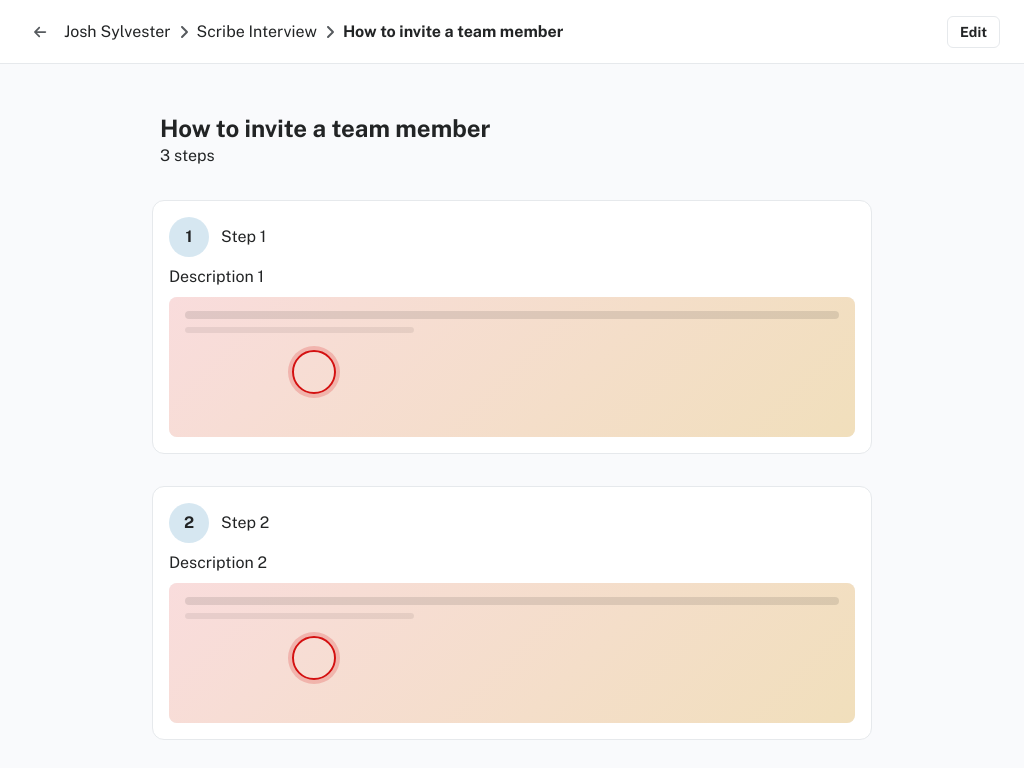
App: locked steps › Undo before Done editing keeps the original lock
Click the button "Edit" at [974, 32], box x1=947 y1=16 x2=1000 y2=48
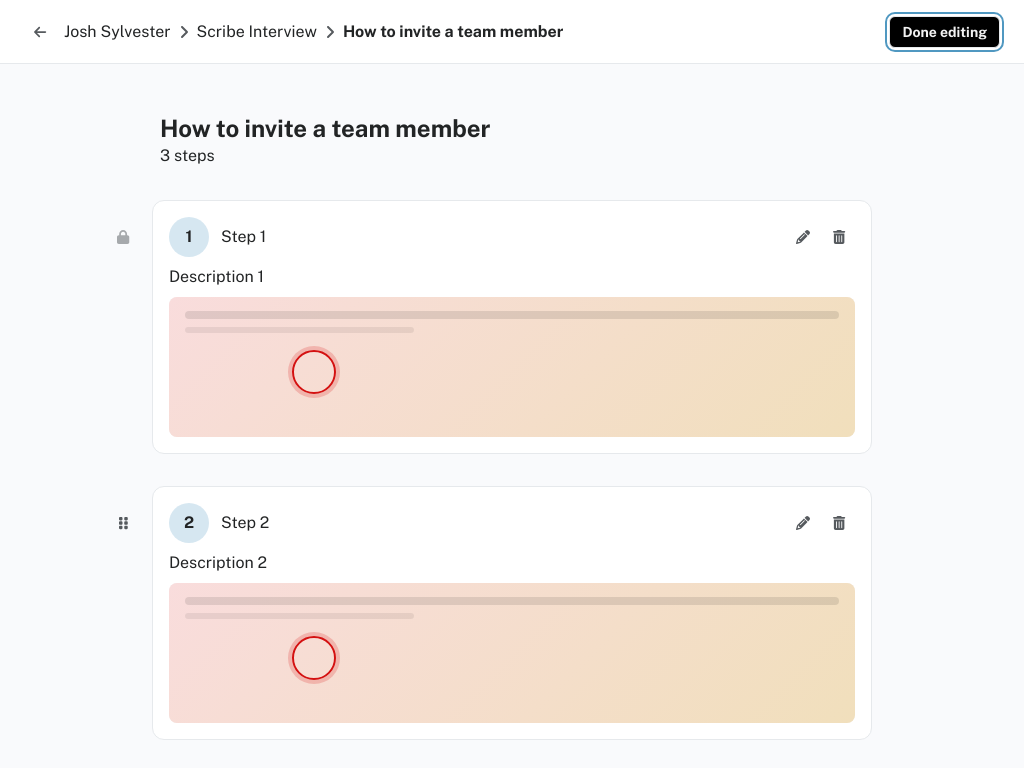
Click the button named "Delete Step 1" at [839, 237], box x1=823 y1=221 x2=855 y2=253
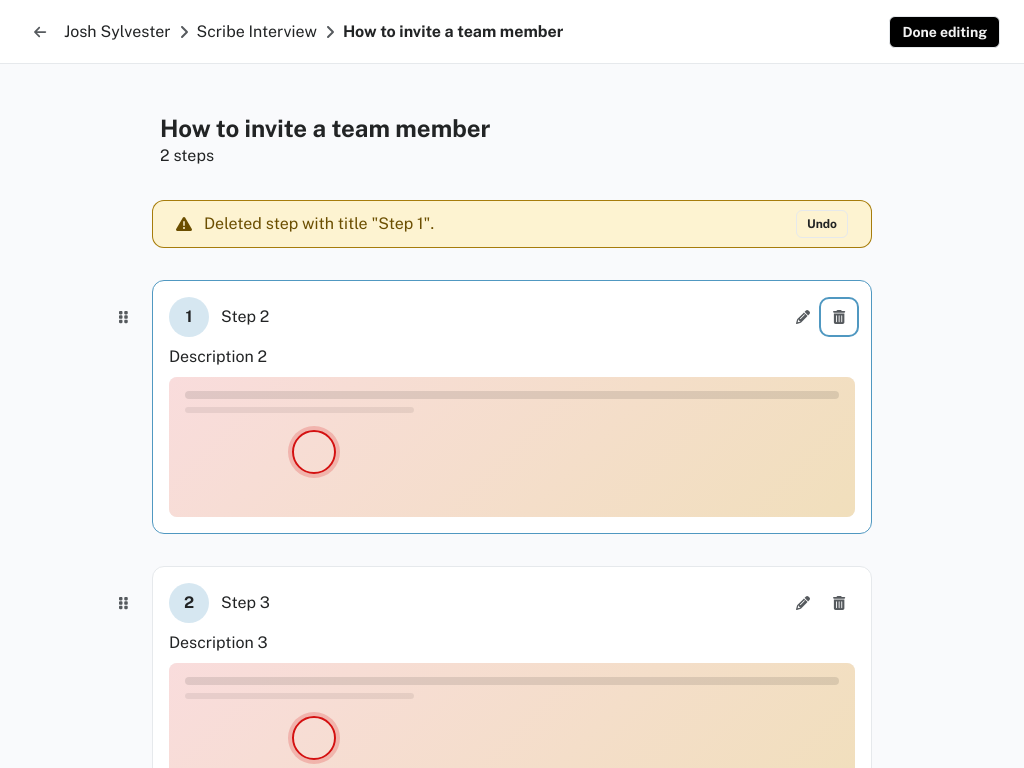
Click the button "Undo" at [822, 224], box x1=796 y1=210 x2=848 y2=238
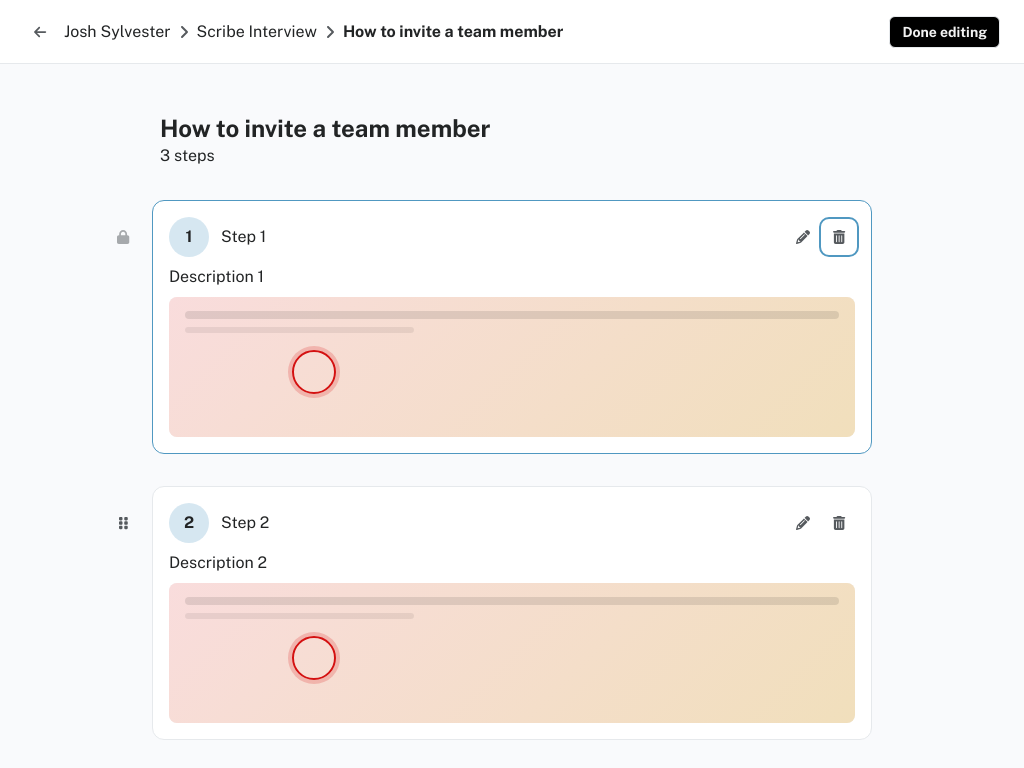
Click the button "Done editing" at [945, 32], box x1=889 y1=16 x2=1000 y2=48
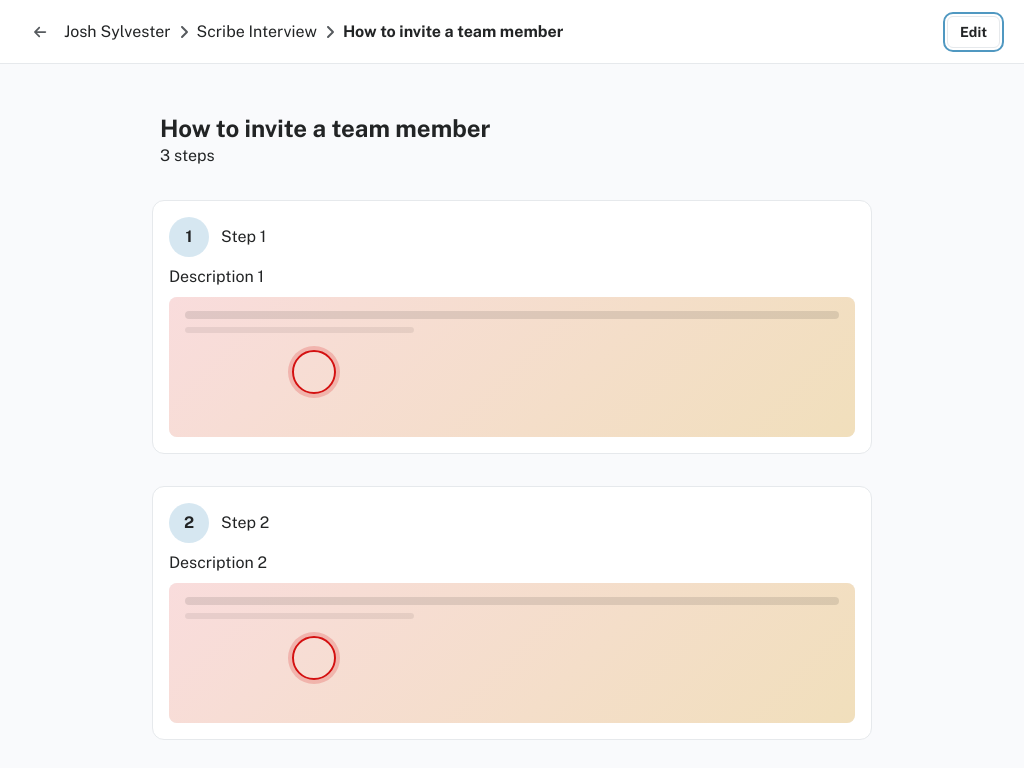
Click the button "Edit" at [974, 32], box x1=947 y1=16 x2=1000 y2=48
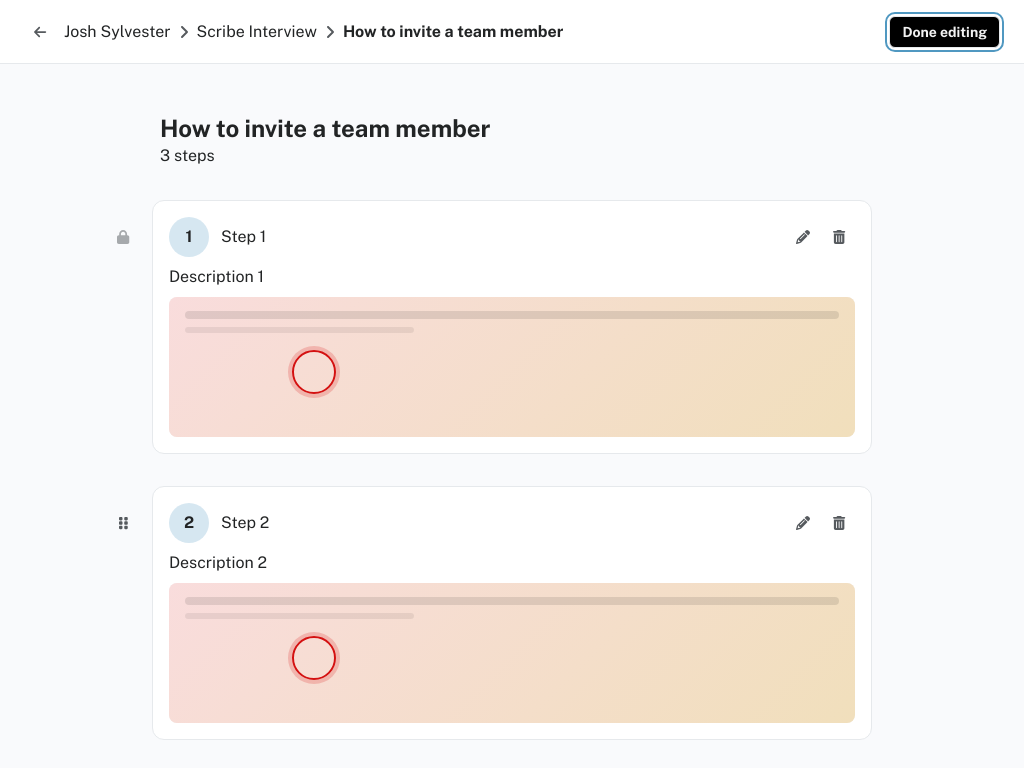
Result: the button named "Reorder Step 2" is shown at x1=107 y1=507 x2=139 y2=539
Result: the number of buttons named "Locked: this step can't be moved" is 1 at x1=107 y1=221 x2=139 y2=253
